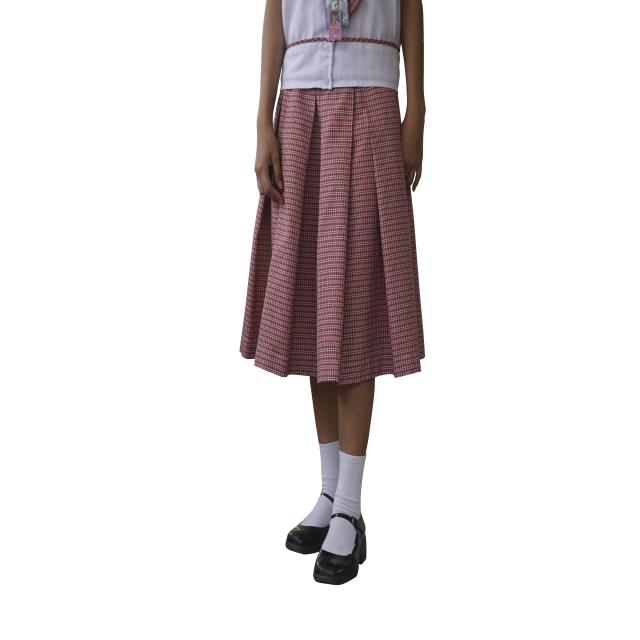pologirl: (282, 0, 401, 90)
shoes: (285, 513, 367, 585)
skirt: (240, 87, 424, 385)
